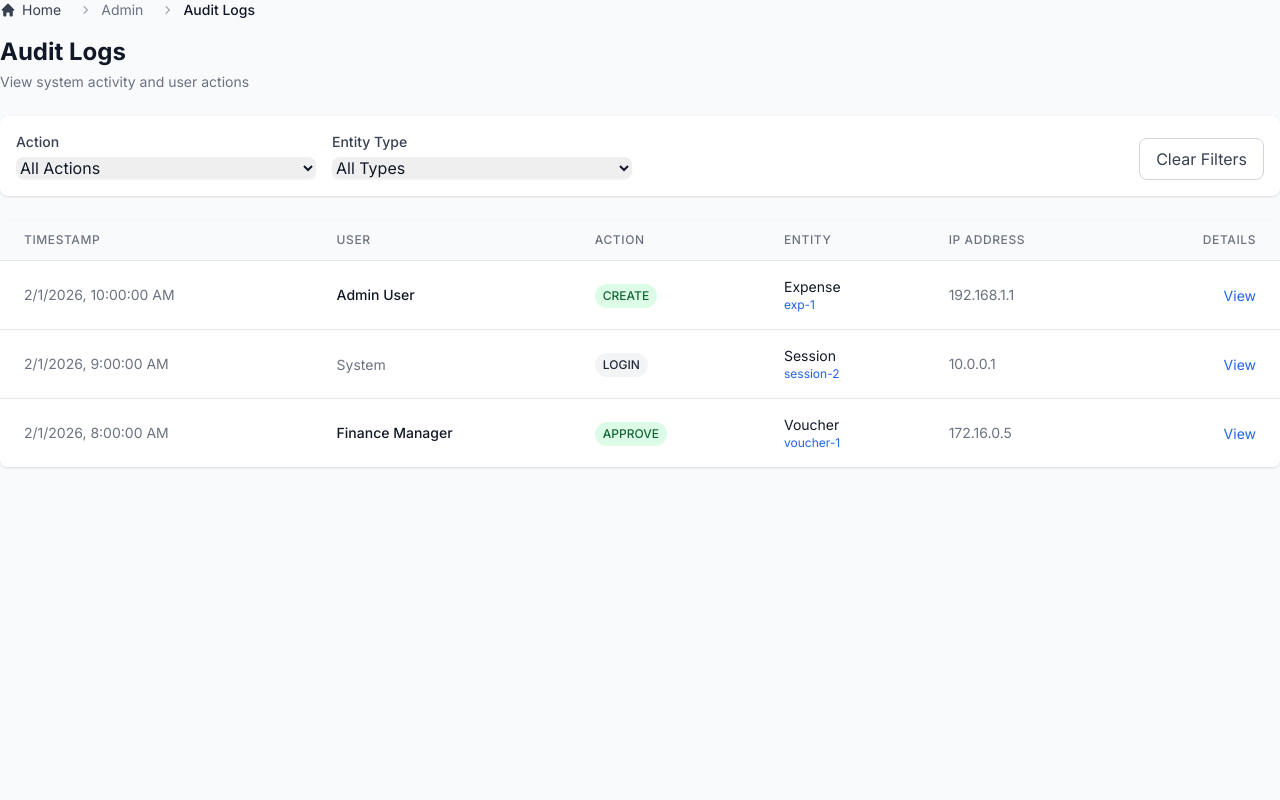
Scenario: AuditLogsPage › Detail Modal › opens modal when clicking View on a log entry
Click the button "View" in the row of "2/1/2026, 10:00:00 AM".
click(1240, 296)  # box [1224,286,1256,306]
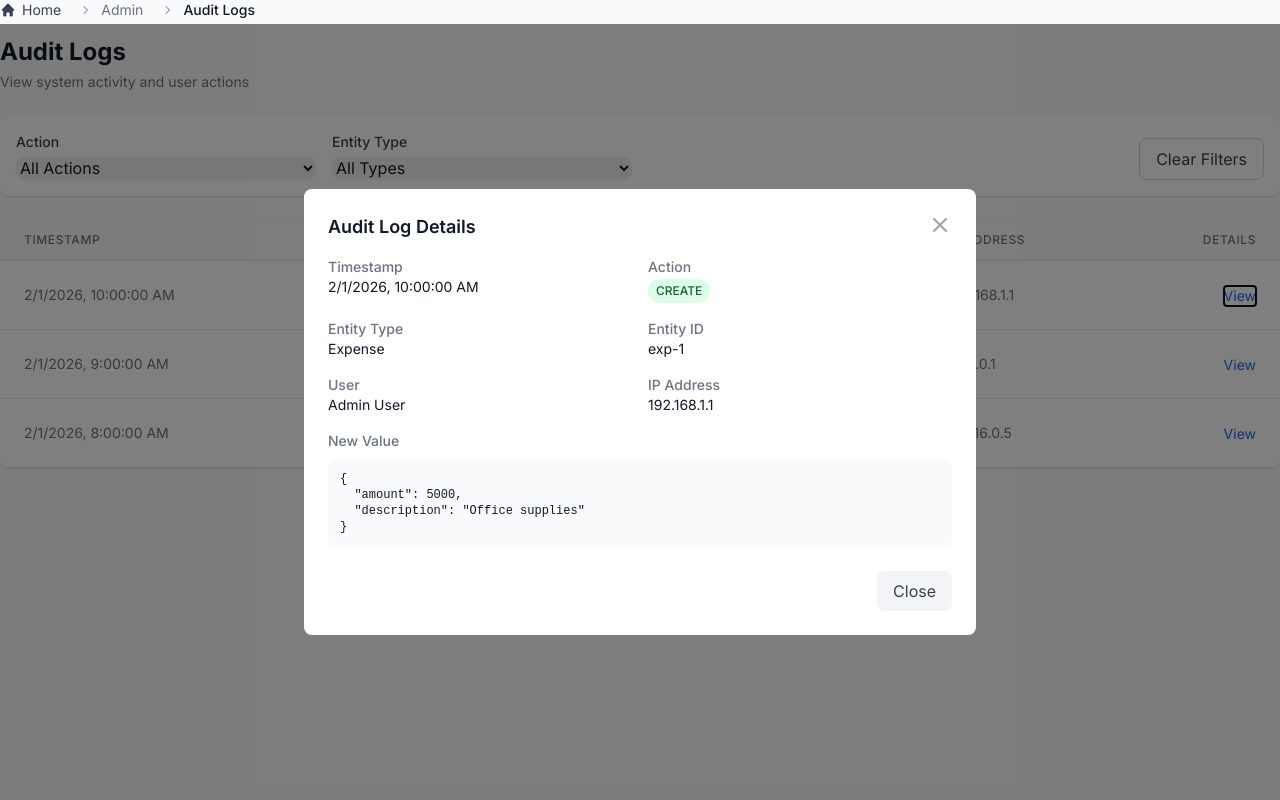
expect the heading "Audit Log Details" is shown: met, box [328,213,476,241]
